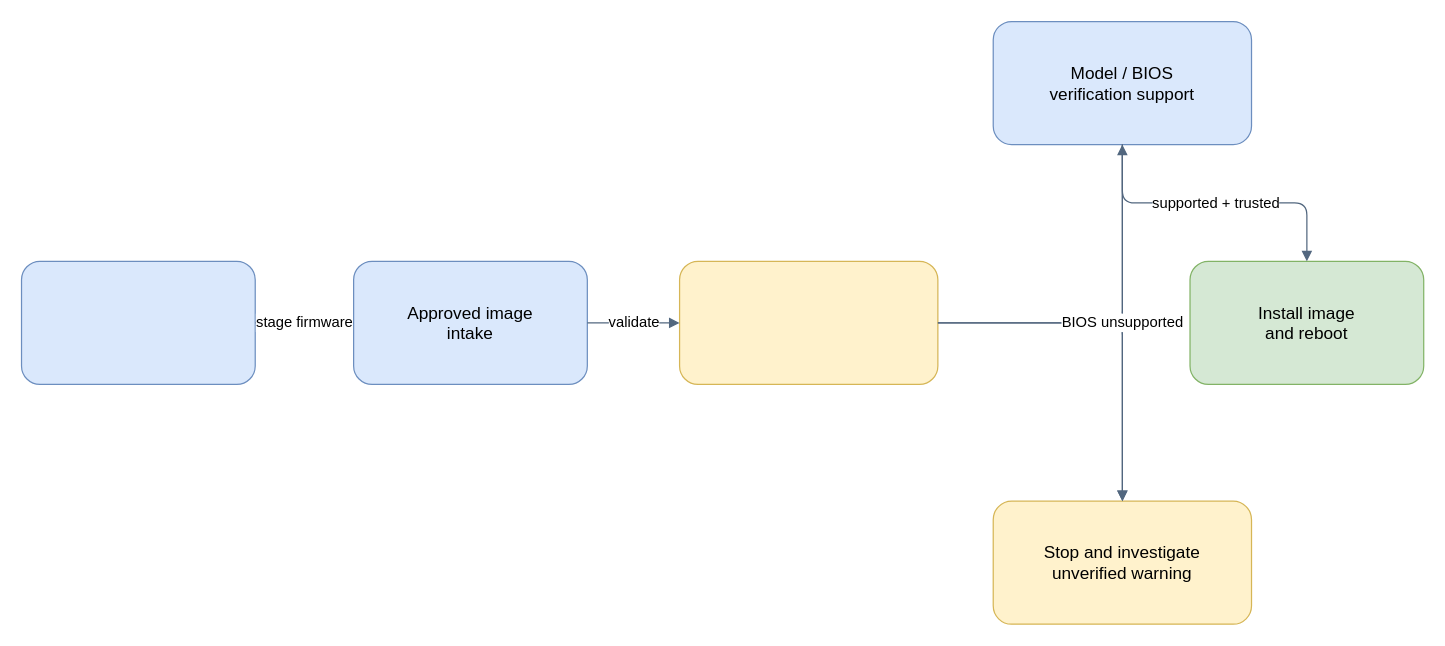
Some shapes in this 1445 by 646 pixel diagram are drawn without their labels. Each missing label, with the centre of its shape:
FortiGate switch controller: the point at 137,322
Signature and integrity check: the point at 808,322
